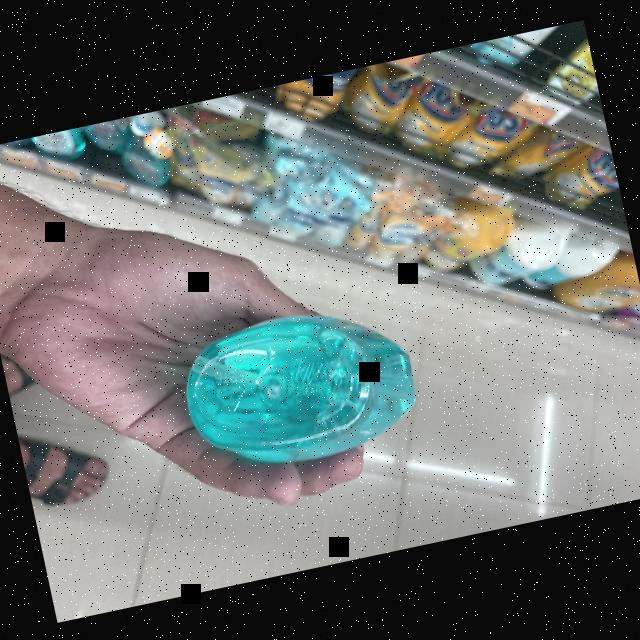chemical_plastic_bottle: (168, 288, 434, 490)
